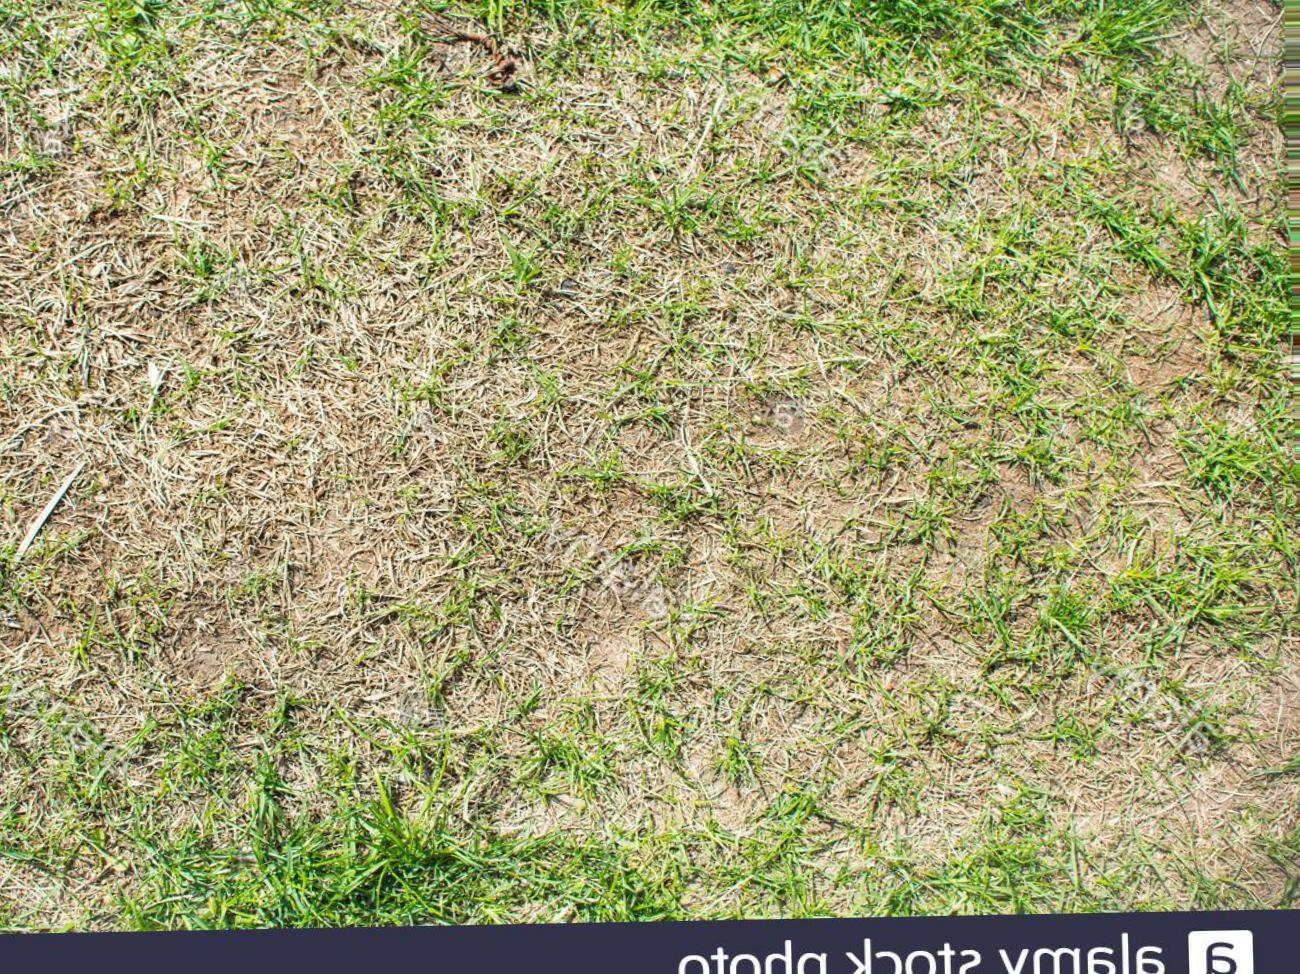patch: (20, 340, 622, 669), (654, 330, 888, 720), (313, 154, 537, 301), (666, 164, 922, 281), (105, 172, 318, 313), (1120, 281, 1198, 381), (920, 486, 1000, 557), (737, 733, 820, 798), (564, 784, 637, 825)
